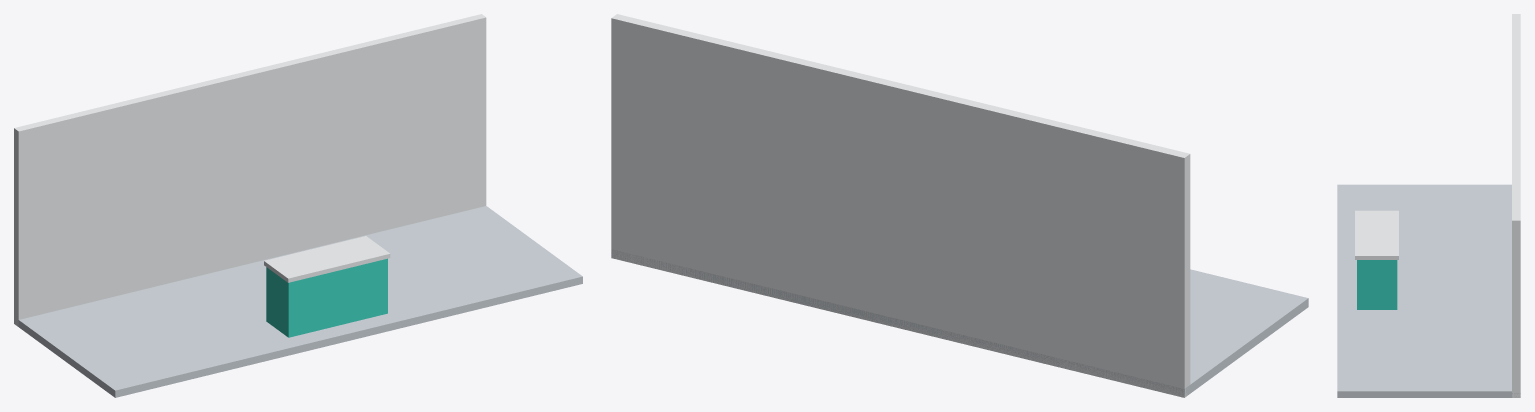
3 views of the same model, side by side, from view 1: azimuth 30°, elevation 25°; view 2: azimuth 150°, elevation 25°; view 3: azimuth 270°, elevation 25° (orthographic). The views are drawn at different scales.
Parts seen in each view (by area): view 1: Exhibition Booth Concept; view 2: Exhibition Booth Concept; view 3: Exhibition Booth Concept.
Part boxes in pixels (bbox=[...]): Exhibition Booth Concept: bbox=[14, 14, 582, 397]; Exhibition Booth Concept: bbox=[611, 14, 1308, 397]; Exhibition Booth Concept: bbox=[1337, 14, 1520, 397].
Size of the model in its own units: 8 by 3.2 by 3.
